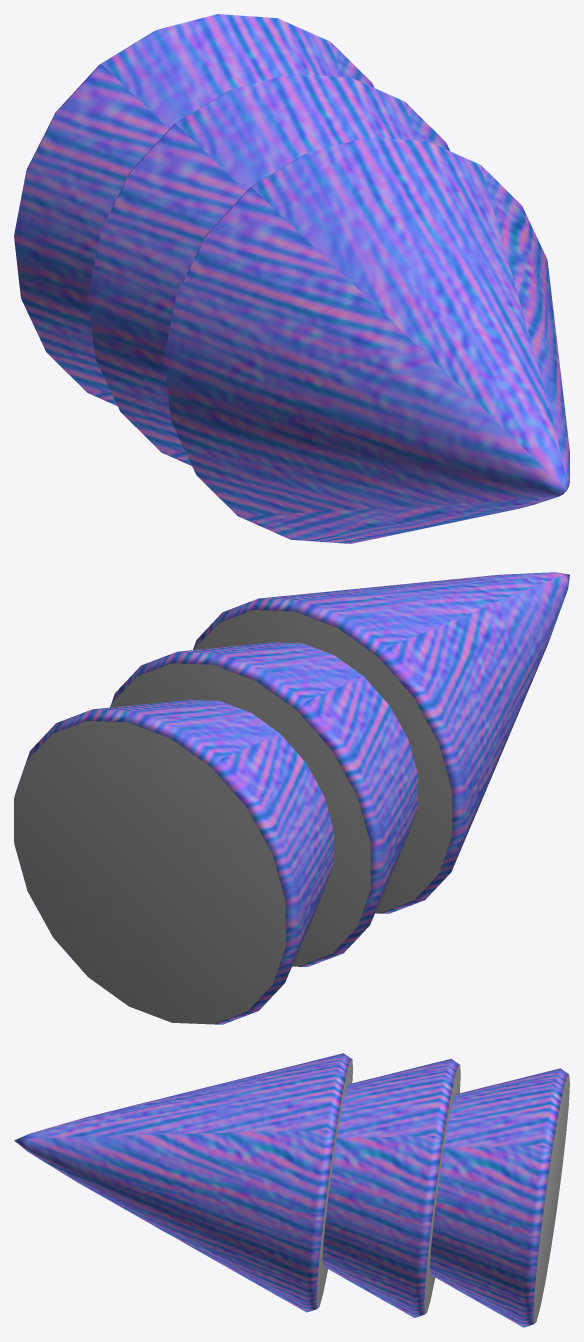
Rendered from cly_AssetPipelineTreeTriangles.fbx.
3 views of the same model, one above another, from view 1: azimuth 30°, elevation 25°; view 2: azimuth 150°, elevation 25°; view 3: azimuth 270°, elevation 25° (orthographic). The views are drawn at different scales.
Visible parts, largest first — view 1: pCylinder5, pCylinder3, pCylinder1; view 2: pCylinder1, pCylinder5, pCylinder3; view 3: pCylinder5, pCylinder1, pCylinder3.
Boxes of the visible parts, x1,y1,x2,y2 form: pCylinder5: [164, 137, 569, 543]; pCylinder3: [88, 74, 449, 465]; pCylinder1: [14, 14, 374, 405]; pCylinder1: [14, 699, 333, 1024]; pCylinder5: [193, 572, 569, 913]; pCylinder3: [110, 642, 417, 966]; pCylinder5: [14, 1053, 352, 1312]; pCylinder1: [430, 1068, 569, 1327]; pCylinder3: [322, 1059, 460, 1317].
Size of the model in its own units: 129 by 125 by 258.
